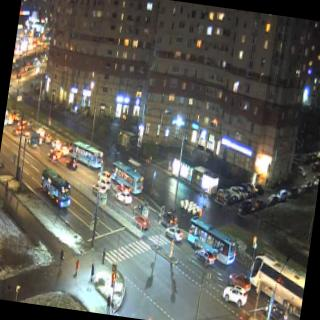large-vehicle: (245, 251, 308, 317), (182, 220, 238, 266), (36, 168, 74, 208), (110, 159, 146, 193), (67, 137, 105, 169)
small-vehicle: (220, 280, 248, 308), (228, 270, 252, 292), (263, 301, 289, 320), (164, 222, 183, 242), (160, 207, 178, 228), (195, 247, 213, 266), (132, 202, 148, 220), (90, 181, 106, 197), (117, 190, 132, 206), (133, 216, 148, 231), (50, 138, 62, 154), (59, 141, 70, 158), (66, 156, 76, 172), (98, 169, 110, 182), (98, 180, 110, 190), (47, 153, 56, 164), (54, 146, 62, 158)
